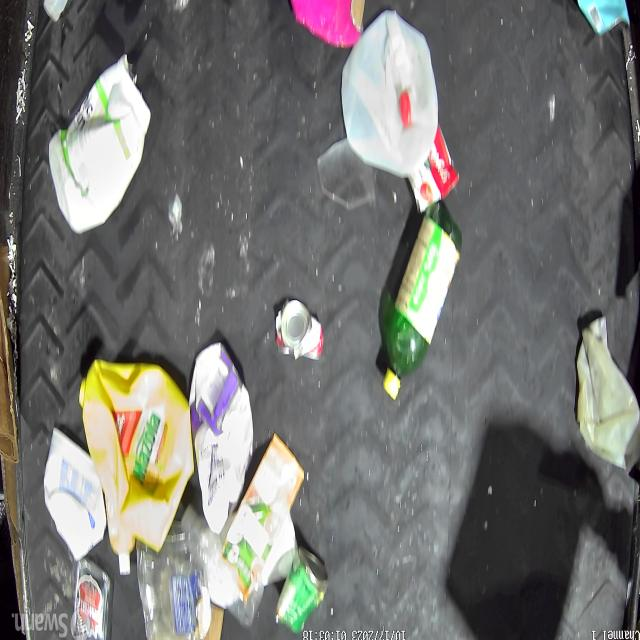can: (276, 548, 326, 634), (279, 298, 321, 361)
milk_jug: (50, 60, 150, 234), (342, 8, 439, 178), (574, 314, 640, 474)
non_white_jug: (76, 360, 195, 553), (190, 342, 253, 532), (284, 0, 367, 48)
